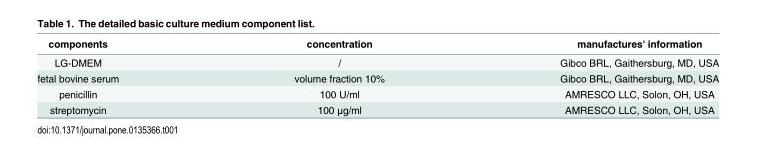table: (36, 37, 718, 115)
table column: (205, 37, 471, 115), (471, 37, 718, 115), (36, 37, 205, 115)
table column header: (36, 37, 718, 52)
table row: (36, 52, 718, 70), (36, 85, 718, 101), (36, 37, 718, 52), (36, 70, 718, 85), (36, 101, 718, 115)
